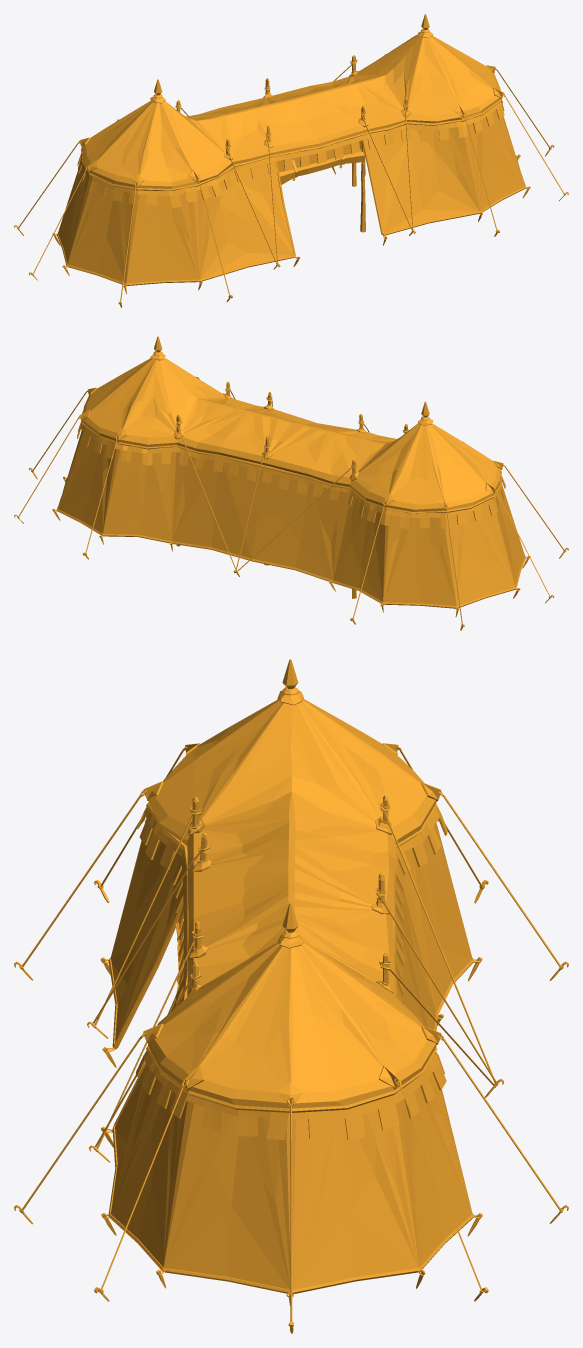
The model's file is SM_Tent_Noble_Plain_Fantasy.fbx.
The picture shows the model from 3 angles, top to bottom: view 1: azimuth 30°, elevation 25°; view 2: azimuth 150°, elevation 25°; view 3: azimuth 270°, elevation 25°; orthographic projection. The views are drawn at different scales.
Visible parts, largest first — view 1: tent-noble-plain-fantasy; view 2: tent-noble-plain-fantasy; view 3: tent-noble-plain-fantasy.
Part boxes in pixels (bbox=[...]): tent-noble-plain-fantasy: bbox=[14, 14, 568, 307]; tent-noble-plain-fantasy: bbox=[14, 336, 568, 630]; tent-noble-plain-fantasy: bbox=[14, 659, 568, 1333].
Bounding box in the file's own units: 16.33 × 5.64 × 8.01.
